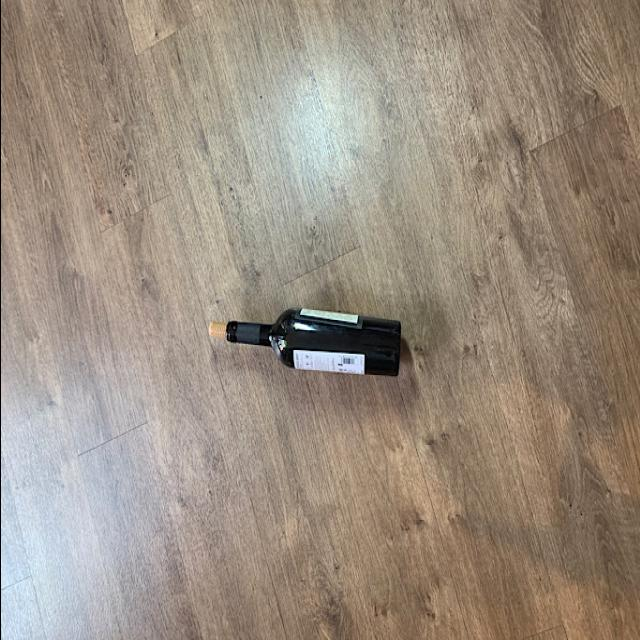Glass Bottle: (220, 302, 404, 378)
